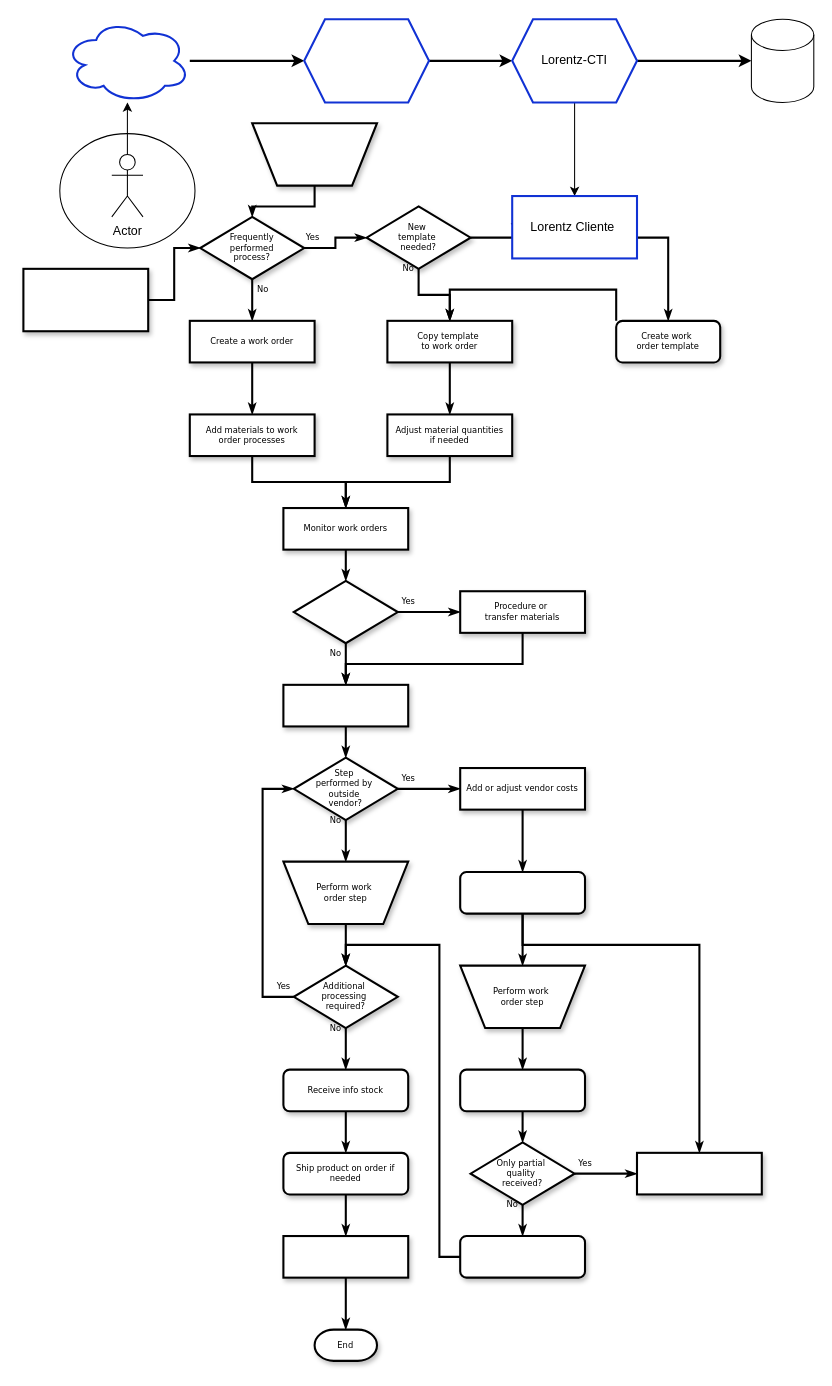
Some shapes in this 832 by 1386 pixel diagram are drawn without their labels. The centre of each missing label's shape, as x and y in pixels:
"Change status to Complete" belongs at (346,1257).
"Change status to In Process" belongs at (346,706).
"Create work order backorder" belongs at (700,1174).
"Determine need to replenish value-add stock" belongs at (315,155).
"E1" belongs at (126,60).
"Material quantities not in stock?" belongs at (346,613).
"Order a product that requires value-add processing" belongs at (86,301).
"Pay vendor invoice" belongs at (523,1257).
"PBX" belongs at (366,60).
"Receive product from vendor" belongs at (523,1091).
"Ship materials to vendor" belongs at (523,893).
